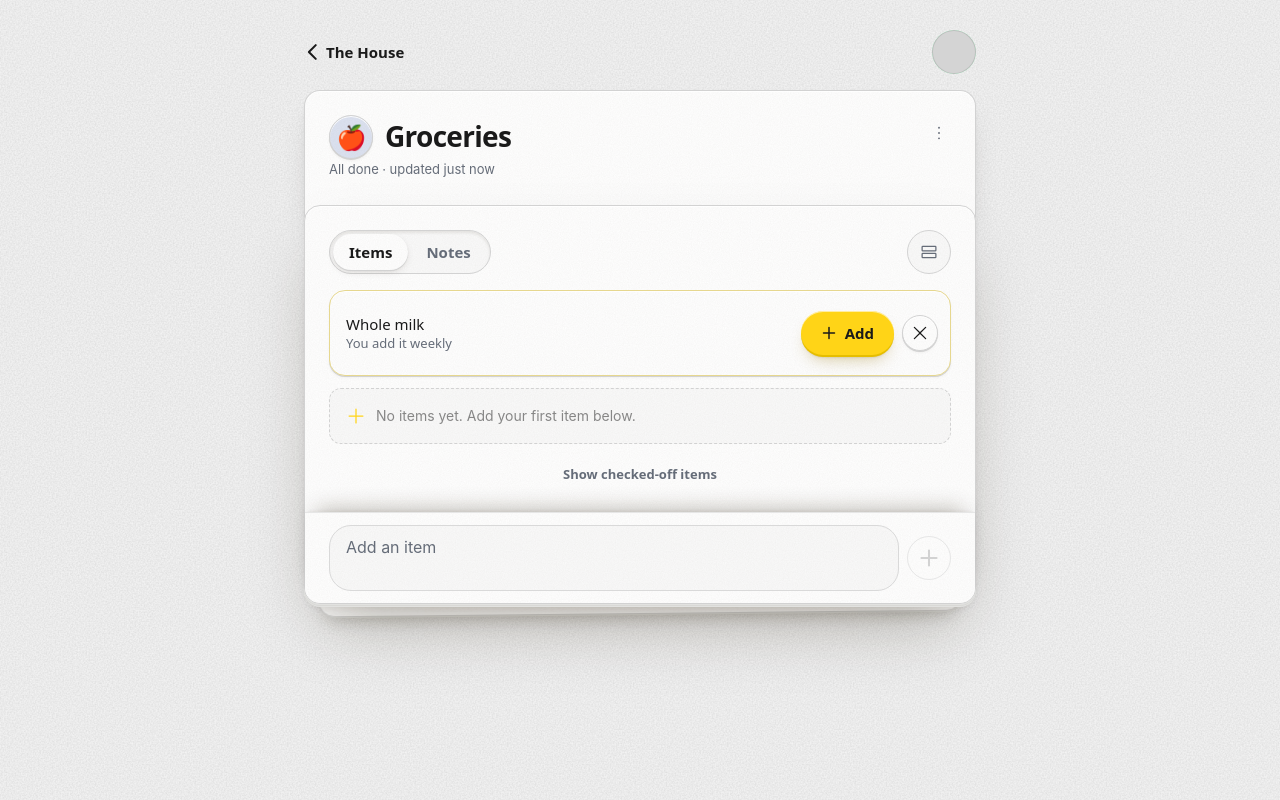
ListPage smart suggestions › adds the suggestion as an item tagged as coming from a suggestion
Click the button with aria-label "Add Whole milk" at coordinates (847, 333), box [801,311,894,355]
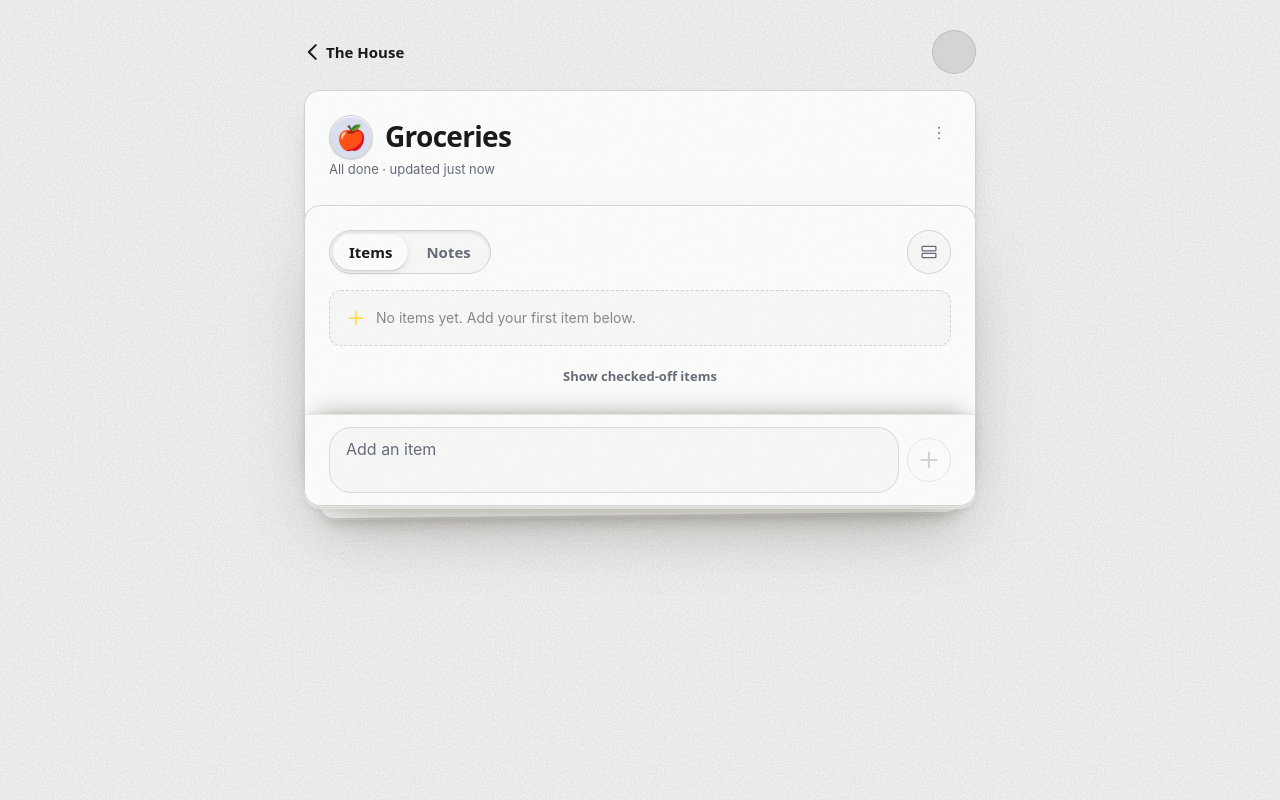
Check: the element "Suggestion" is gone
